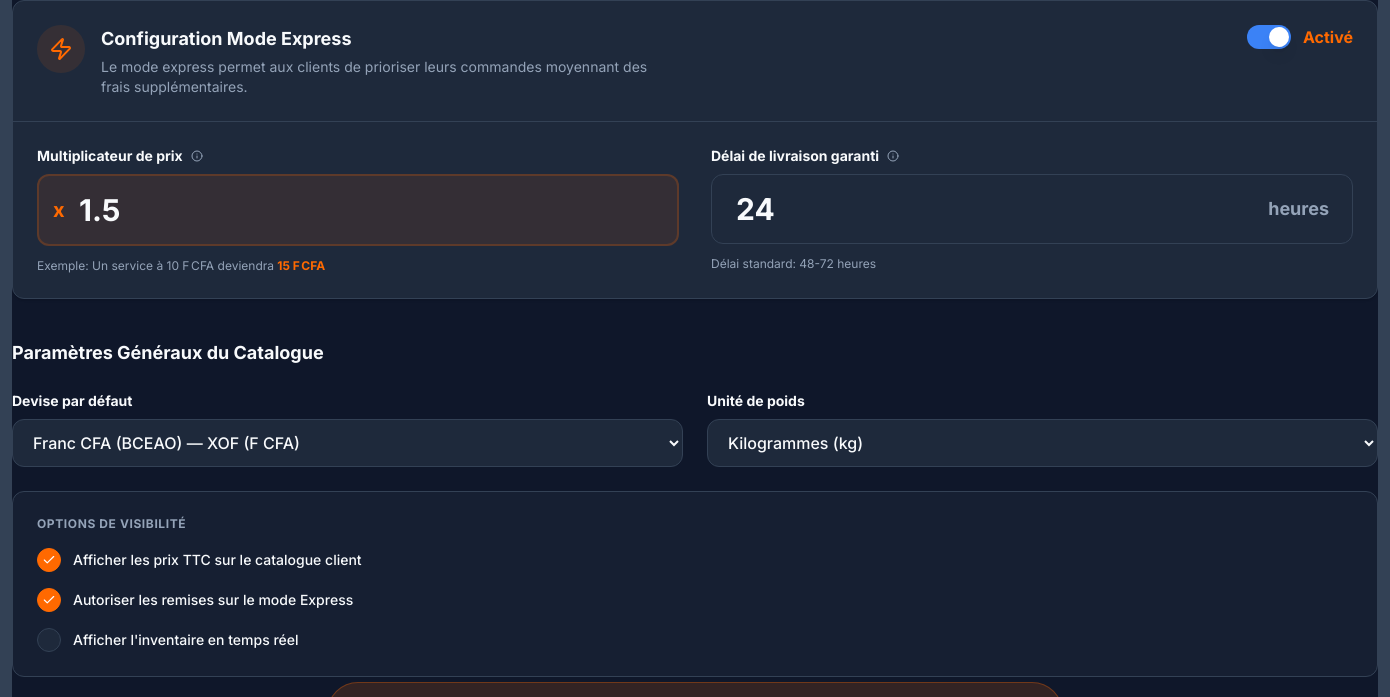
Scenario: ExpressMode › [P1] toggles enabled state via switch
Click the switch: (1269, 37) [1247, 25, 1291, 49]
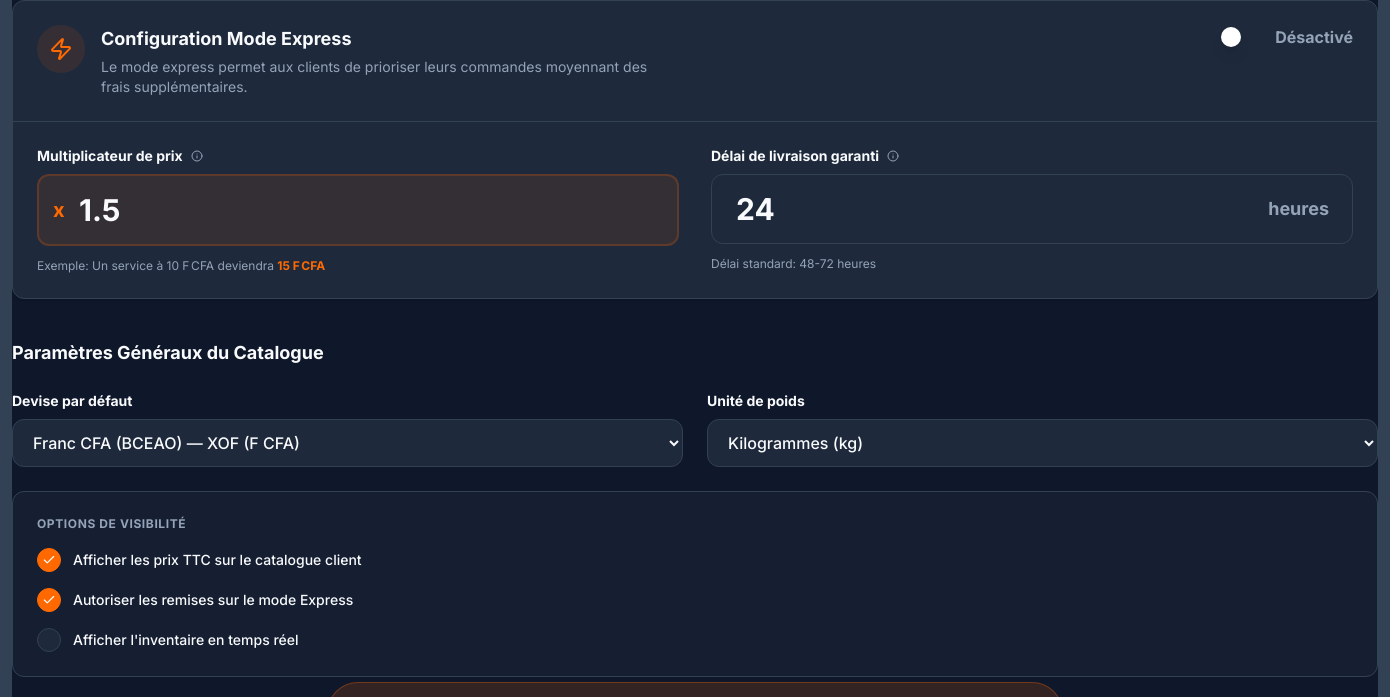
Result: the text "Désactivé" is shown at [1275, 25, 1353, 49]
